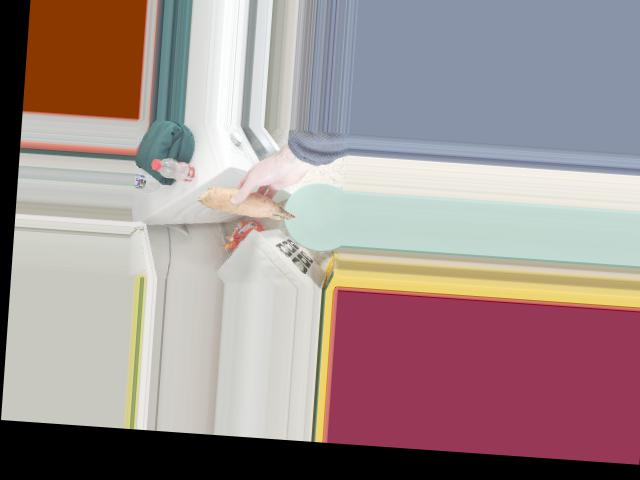sweet_potato: (203, 186, 299, 220)
